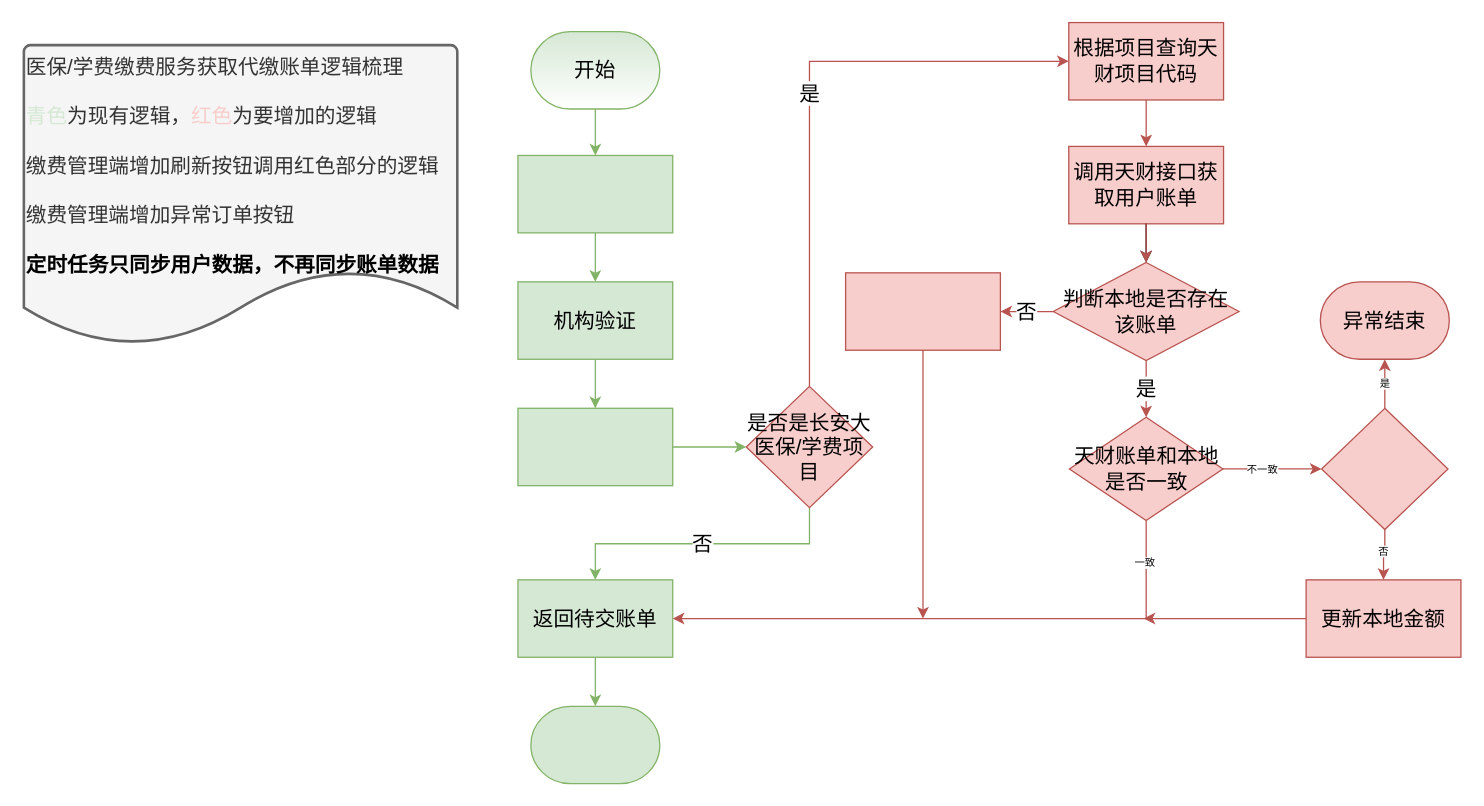
Image size: 1484x806. Some labels were removed from this diagram. Each missing label, with the box of its shape:
保存账单: (844, 272, 1000, 350)
天财实交金额比本地少: (1320, 407, 1448, 530)
结束: (530, 705, 660, 784)
请求参数验证: (517, 154, 673, 233)
项目验证: (517, 407, 673, 486)
